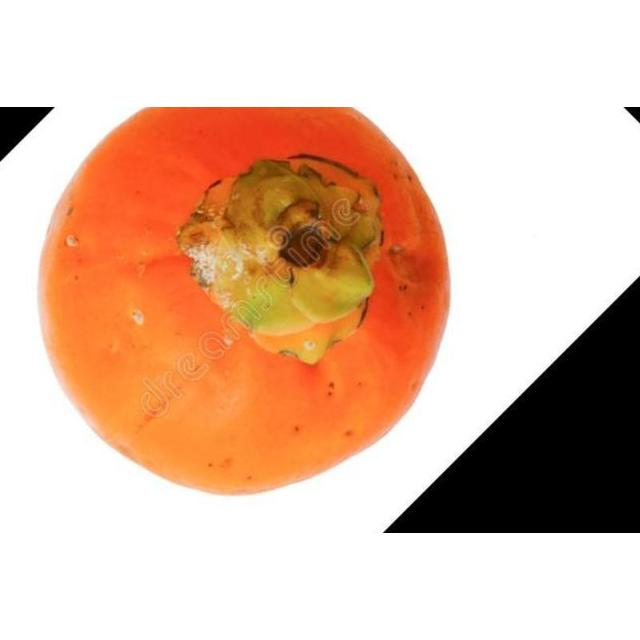good: (36, 107, 452, 497)
